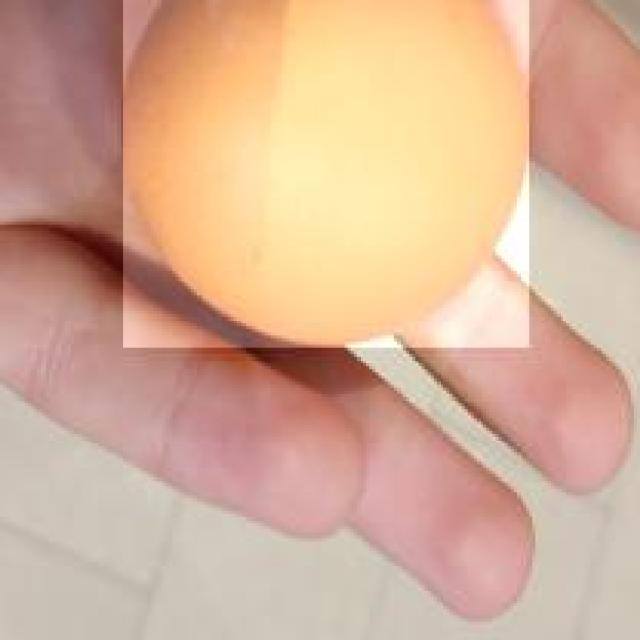egg: (120, 0, 529, 348)
